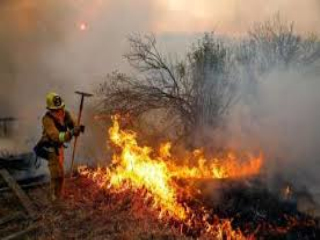fire: (96, 114, 263, 234)
